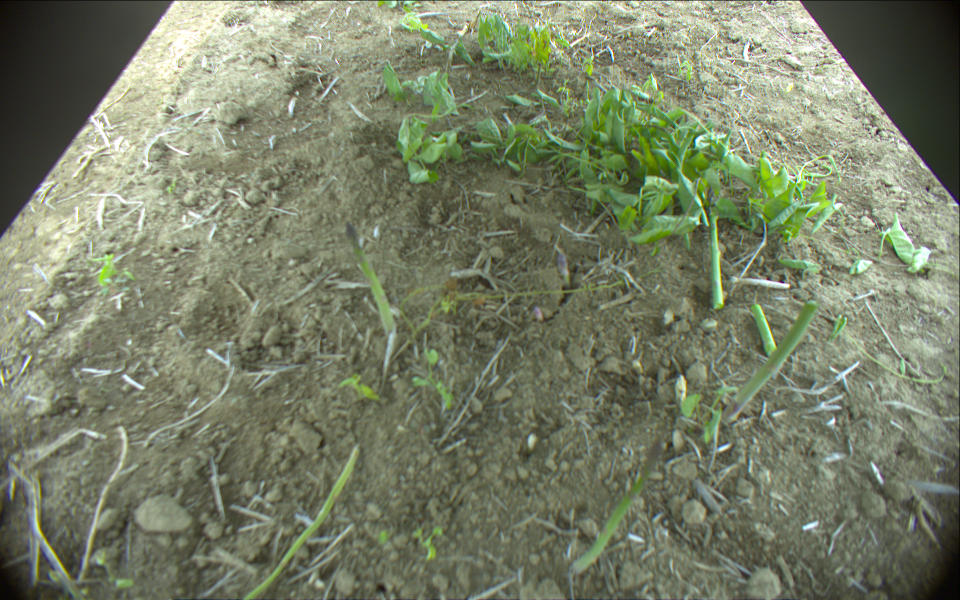aspa: (236, 444, 358, 600), (558, 430, 670, 574), (721, 300, 821, 426), (343, 221, 397, 338), (704, 189, 726, 308), (752, 302, 775, 356), (557, 252, 573, 299)
